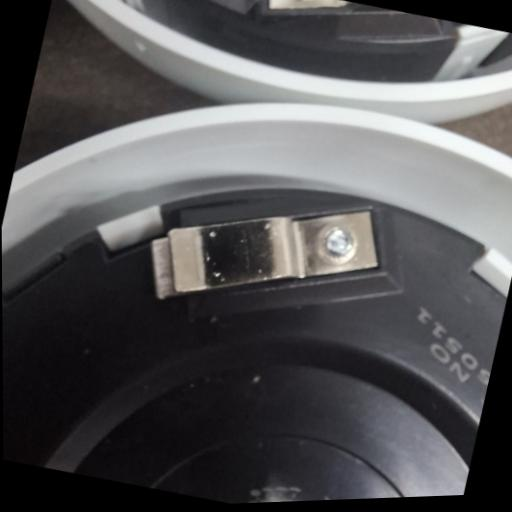yayli: (139, 162, 393, 347)
